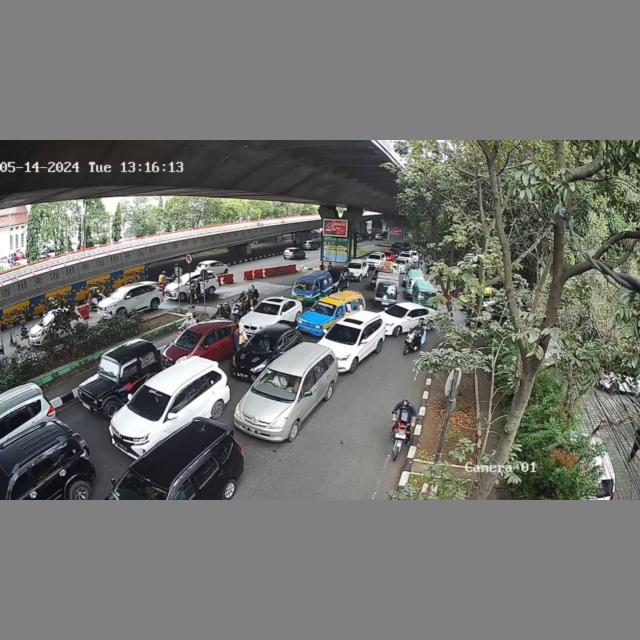windshield: (258, 366, 303, 400), (127, 386, 170, 420), (246, 334, 278, 355), (328, 322, 361, 342), (173, 329, 202, 347), (254, 300, 283, 313), (310, 300, 336, 314)
